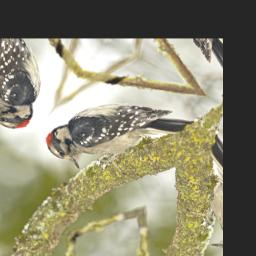Woodpecker: (37, 59, 204, 203)
